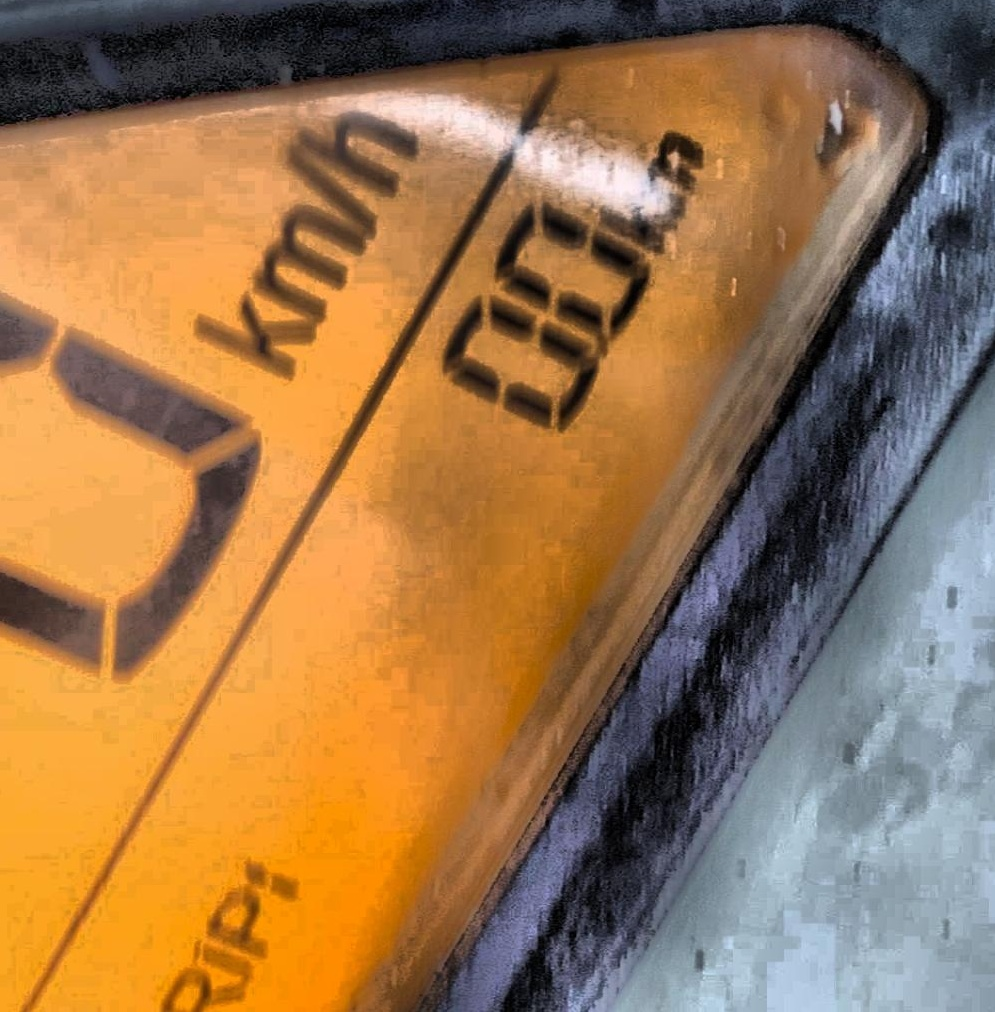-: (587, 333, 616, 361)
0: (438, 302, 598, 433), (492, 204, 648, 329)
1: (226, 842, 321, 898)
X: (249, 205, 360, 308), (295, 103, 427, 188), (271, 142, 384, 230), (184, 305, 327, 374), (206, 891, 287, 958), (648, 132, 711, 195), (154, 968, 243, 1010)
